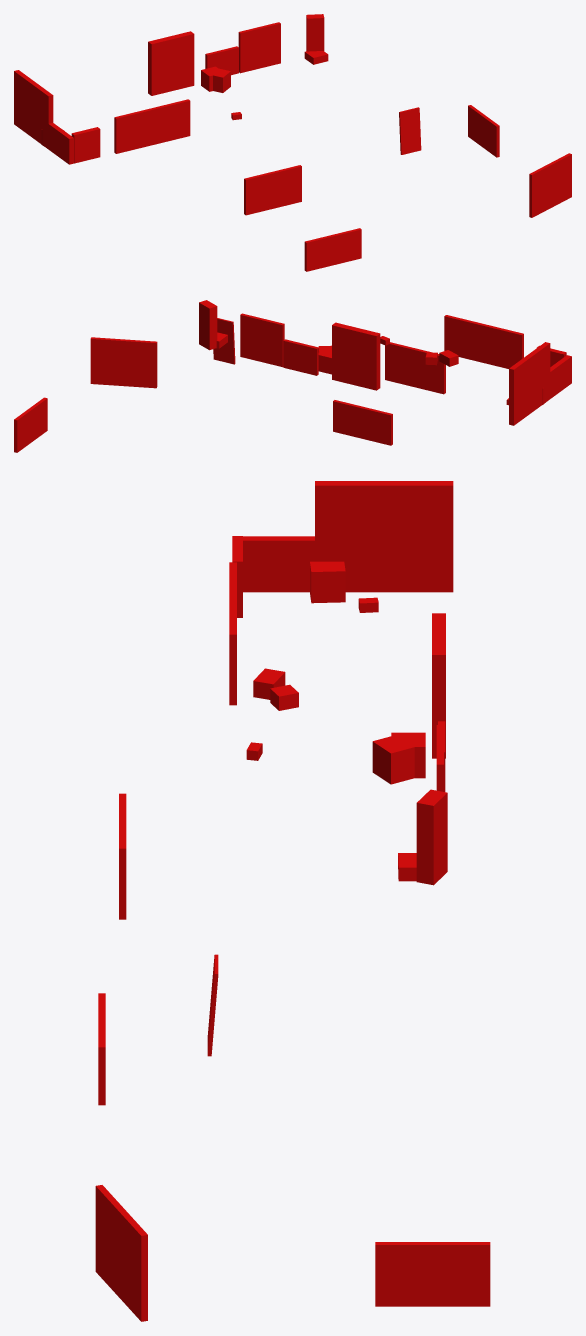
The model's file is SM_Bld_Motel_01_Barricades_01_Collision.fbx.
3 views of the same model, one above another, from view 1: azimuth 30°, elevation 25°; view 2: azimuth 150°, elevation 25°; view 3: azimuth 270°, elevation 25° (orthographic). The views are drawn at different scales.
Parts seen in each view (by area): view 1: SM_Bld_Motel_01_Barricades_01_Collision; view 2: SM_Bld_Motel_01_Barricades_01_Collision; view 3: SM_Bld_Motel_01_Barricades_01_Collision.
Boxes of the visible parts, left/top/right/bottom form: SM_Bld_Motel_01_Barricades_01_Collision: left=14, top=14, right=571, bottom=271; SM_Bld_Motel_01_Barricades_01_Collision: left=14, top=300, right=571, bottom=452; SM_Bld_Motel_01_Barricades_01_Collision: left=95, top=481, right=490, bottom=1321.
Bounding box in the file's own units: 2540 × 941 × 904.
